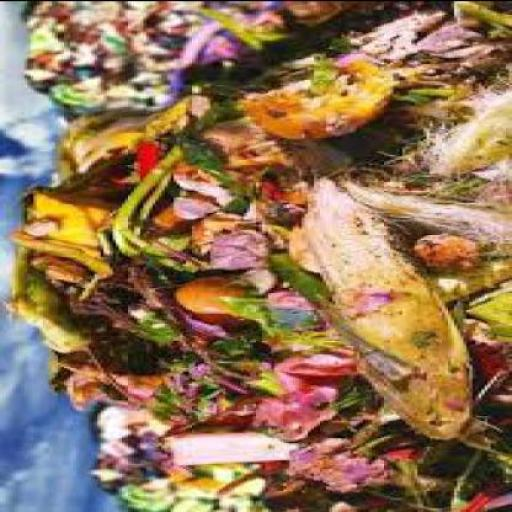biodegradable: (9, 1, 509, 510), (18, 1, 450, 111), (308, 179, 469, 435), (95, 402, 289, 511), (192, 114, 347, 181), (247, 60, 378, 134), (384, 439, 510, 510), (18, 184, 112, 270), (3, 251, 82, 353), (244, 379, 338, 441), (281, 435, 390, 488), (430, 102, 509, 172), (158, 426, 308, 461), (265, 341, 360, 393), (58, 110, 134, 174), (167, 275, 256, 326), (49, 346, 116, 408), (52, 150, 131, 196), (174, 459, 265, 494), (147, 95, 198, 157), (94, 401, 152, 454), (244, 472, 323, 510), (320, 377, 382, 425), (88, 444, 146, 486), (201, 231, 262, 266), (116, 476, 177, 510), (137, 135, 177, 184), (171, 495, 225, 511)
